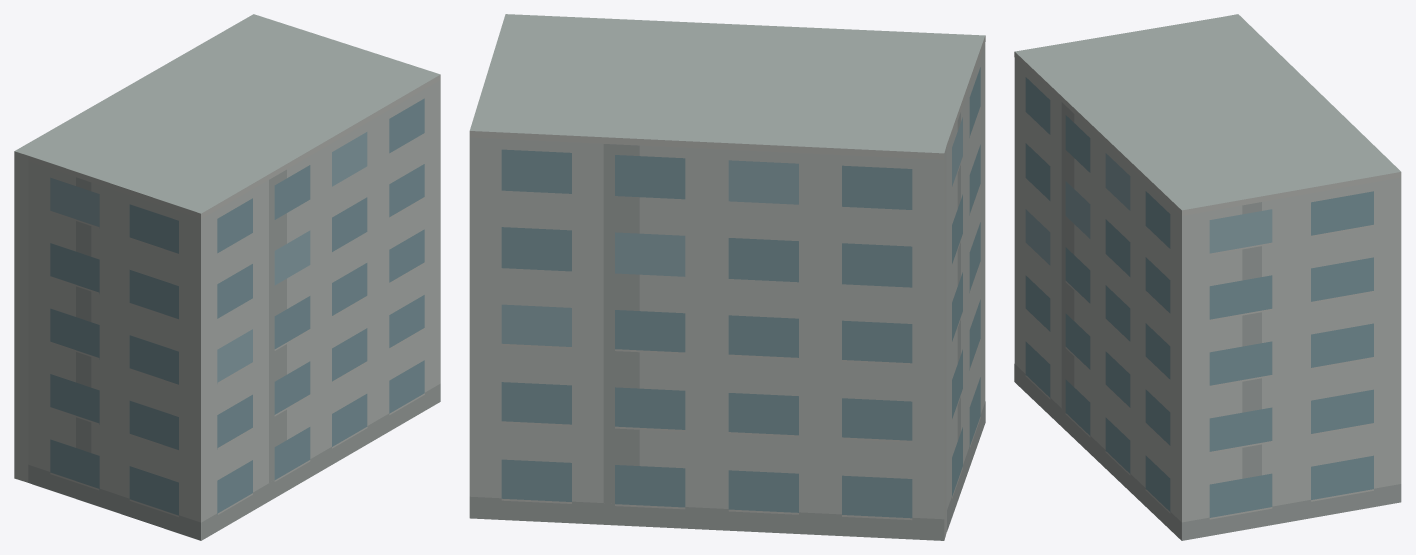
The model's file is survey-upis-32946414.glb.
3 renders of one model, left to right at view 1: azimuth 30°, elevation 25°; view 2: azimuth 150°, elevation 25°; view 3: azimuth 270°, elevation 25°, orthographic. The views are drawn at different scales.
Visible parts, largest first — view 1: survey-upis-32946414.tmp; view 2: survey-upis-32946414.tmp; view 3: survey-upis-32946414.tmp.
Part boxes in pixels (left/top/right/bottom): survey-upis-32946414.tmp: left=14, top=14, right=440, bottom=540; survey-upis-32946414.tmp: left=469, top=14, right=985, bottom=540; survey-upis-32946414.tmp: left=1014, top=14, right=1401, bottom=540.
Bounding box in the file's own units: 18.1 × 14.2 × 15.07.
